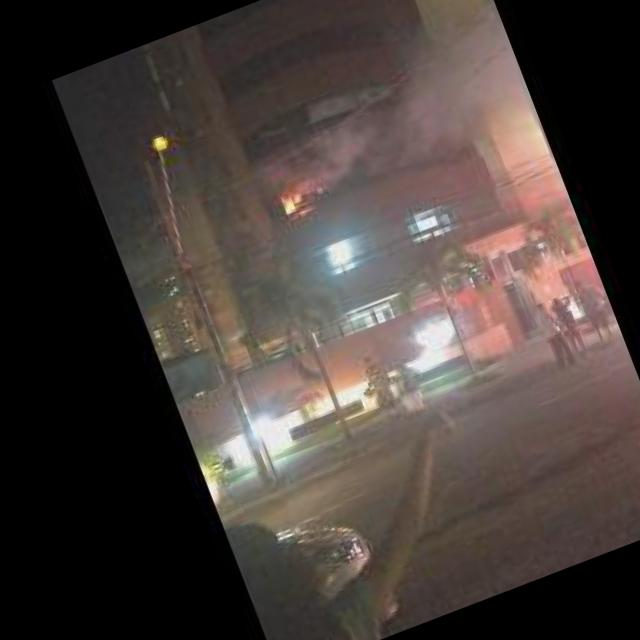fire: (276, 191, 306, 216)
smoke: (269, 8, 542, 200)
